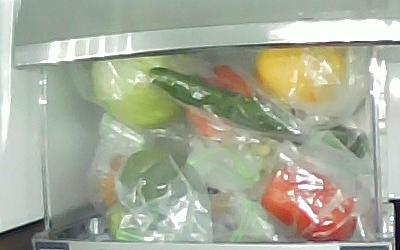apple_vinyl: (186, 65, 249, 140)
broccoli_vinyl: (120, 150, 191, 213)
cucumber_vinyl: (148, 66, 367, 158)
grapefruit_vinyl: (253, 45, 348, 104)
lettuce_vinyl: (90, 52, 190, 126)
paprika_vinyl: (261, 164, 358, 242)
